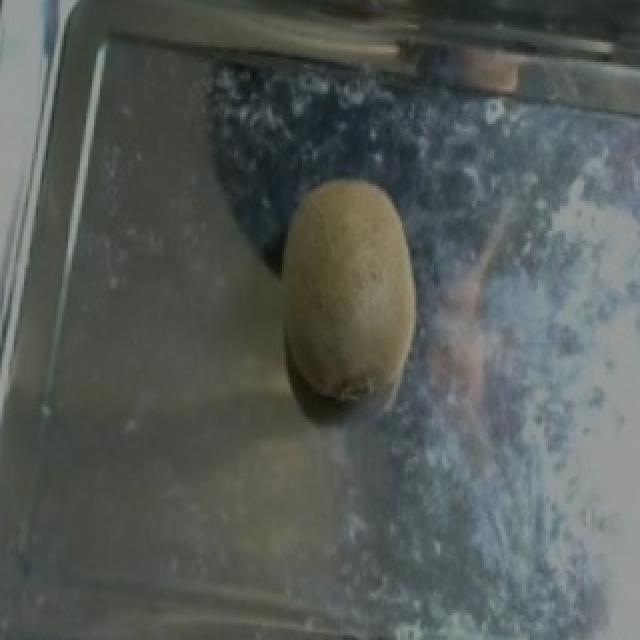Fruit: (250, 154, 440, 436)
